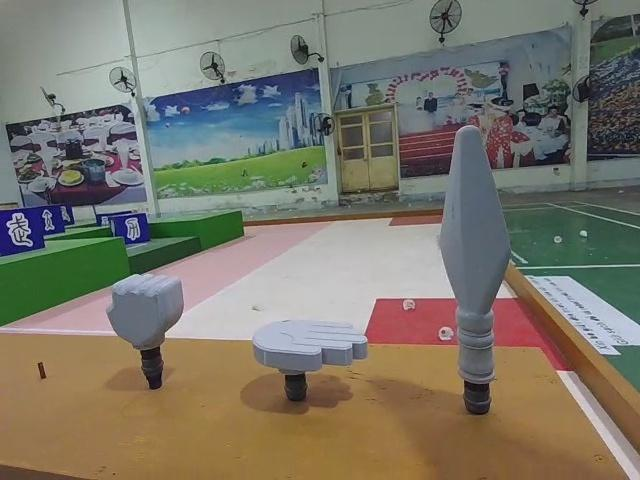Fist: (108, 267, 184, 391)
Hand: (255, 314, 373, 407)
Sph: (432, 124, 511, 421)
